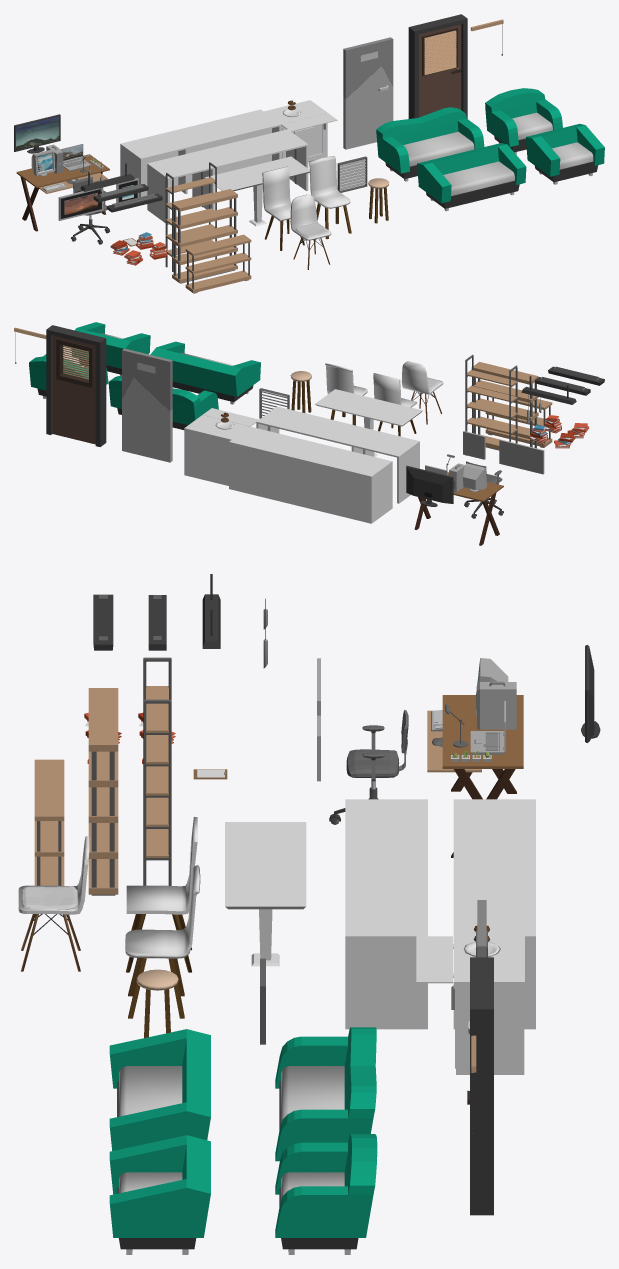
File: Office Set 2.fbx
3 renders of one model, top to bottom at view 1: azimuth 30°, elevation 25°; view 2: azimuth 150°, elevation 25°; view 3: azimuth 270°, elevation 25°, orthographic. The views are drawn at different scales.
Parts seen in each view (by area): view 1: Sofa 2, Door 1, Sofa 1, Sofa 2 Alt, Modern Shelves, Sofa 1 Alt, Door 2, Counter 3 B, Door Frame, Counter 2 B, Modern Shelves 2, Table (+21 smaller); view 2: Door 1, Counter 2 B, Door 2, Sofa 2, Counter 2 C, Counter 2 A, Counter 1, Door Frame, Modern Shelves, Shelves, Table, Counter 3 B (+22 smaller); view 3: Counter 3 C, Sofa 1, Sofa 2, Sofa 2 Alt, Sofa 1 Alt, Table, Modern Shelves, Counter 1, Door Frame, Shelves, Counter 2 C, Desk (+16 smaller).
Part boxes in pixels (bbox=[...]): Sofa 2: bbox=[417, 143, 526, 211]; Door 1: bbox=[343, 37, 393, 149]; Sofa 1: bbox=[376, 107, 484, 181]; Sofa 2 Alt: bbox=[526, 123, 604, 184]; Modern Shelves: bbox=[172, 189, 237, 283]; Sofa 1 Alt: bbox=[485, 88, 562, 154]; Door 2: bbox=[419, 24, 461, 117]; Counter 3 B: bbox=[147, 152, 214, 224]; Door Frame: bbox=[408, 14, 467, 118]; Counter 2 B: bbox=[120, 132, 187, 197]; Modern Shelves 2: bbox=[185, 234, 251, 293]; Table: bbox=[205, 156, 309, 226]; Door 1: bbox=[122, 348, 172, 462]; Counter 2 B: bbox=[324, 450, 392, 523]; Door 2: bbox=[52, 335, 95, 444]; Sofa 2: bbox=[150, 341, 260, 404]; Counter 2 C: bbox=[229, 426, 296, 500]; Counter 2 A: bbox=[276, 438, 344, 511]; Counter 1: bbox=[184, 415, 249, 485]; Door Frame: bbox=[46, 325, 106, 446]; Modern Shelves: bbox=[471, 362, 538, 450]; Shelves: bbox=[465, 354, 517, 455]; Table: bbox=[315, 389, 422, 456]; Counter 3 B: bbox=[351, 429, 419, 503]; Counter 3 C: bbox=[345, 890, 427, 1029]; Sofa 1: bbox=[275, 1027, 376, 1161]; Sofa 2: bbox=[109, 1029, 210, 1150]; Sofa 2 Alt: bbox=[109, 1135, 210, 1254]; Sofa 1 Alt: bbox=[275, 1134, 377, 1254]; Table: bbox=[225, 822, 306, 966]; Modern Shelves: bbox=[88, 688, 118, 895]; Counter 1: bbox=[453, 936, 524, 1074]; Door Frame: bbox=[470, 957, 493, 1215]; Shelves: bbox=[143, 657, 171, 885]; Counter 2 C: bbox=[453, 890, 535, 1029]; Desk: bbox=[442, 695, 523, 857].
Bounding box in the file's own units: 1062 × 214 × 538.
